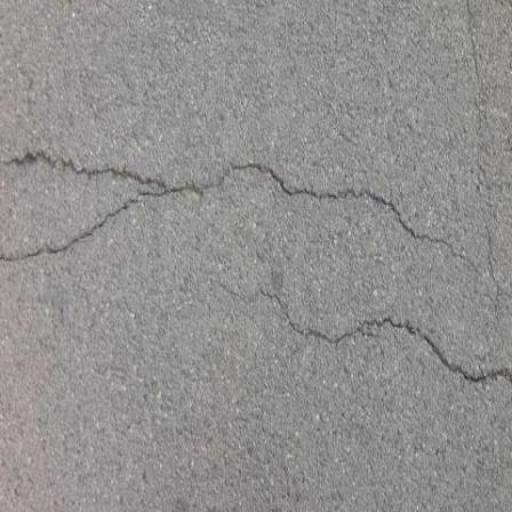spalling: (4, 149, 489, 278), (207, 262, 510, 399), (10, 134, 178, 193)
